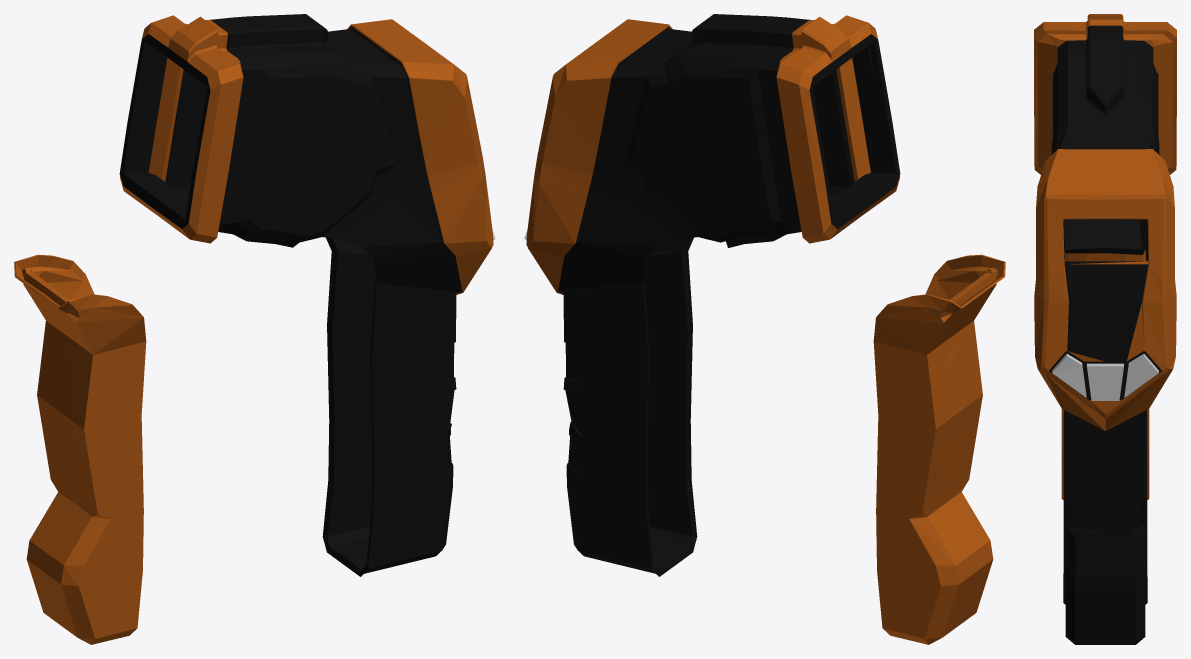
File: untitled45GFDG23.obj
3 views of the same model, side by side, from view 1: azimuth 30°, elevation 25°; view 2: azimuth 150°, elevation 25°; view 3: azimuth 270°, elevation 25° (orthographic). The views are drawn at different scales.
Visible parts, largest first — view 1: Infrared_Thermometer.005, Infrared_Thermometer.002; view 2: Infrared_Thermometer.005, Infrared_Thermometer.002; view 3: Infrared_Thermometer.005, Infrared_Thermometer.002.
Part boxes in pixels (x1,y1,x2,y2): Infrared_Thermometer.005: (119, 14, 495, 576); Infrared_Thermometer.002: (14, 254, 146, 644); Infrared_Thermometer.005: (524, 14, 900, 576); Infrared_Thermometer.002: (873, 254, 1005, 644); Infrared_Thermometer.005: (1034, 14, 1176, 644); Infrared_Thermometer.002: (1061, 250, 1149, 499).
Size of the model in its own units: 0.1452 by 0.1857 by 0.0447.
